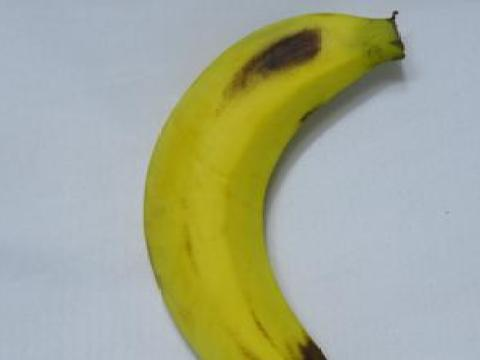freshripe: (117, 2, 412, 359)
